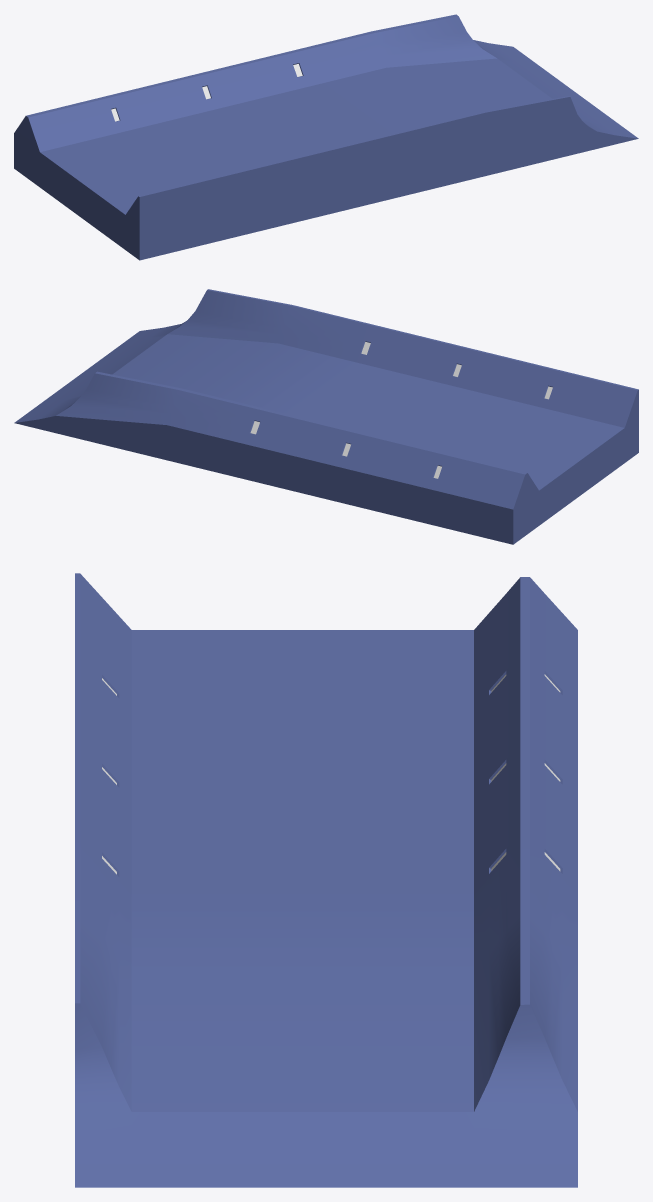
The model's file is staticmesh_Bridge_HalfTrackRightRamp.fbx.
3 views of the same model, one above another, from view 1: azimuth 30°, elevation 25°; view 2: azimuth 150°, elevation 25°; view 3: azimuth 270°, elevation 25° (orthographic). The views are drawn at different scales.
Parts seen in each view (by area): view 1: geo_Bridge_HalfTrackRightRamp; view 2: geo_Bridge_HalfTrackRightRamp; view 3: geo_Bridge_HalfTrackRightRamp.
Part boxes in pixels (x1,y1,x2,y2): geo_Bridge_HalfTrackRightRamp: (14,14,638,260); geo_Bridge_HalfTrackRightRamp: (14,289,638,544); geo_Bridge_HalfTrackRightRamp: (75,573,577,1187).
Size of what is drawn, in the model's own units: 895 by 109 by 390.
